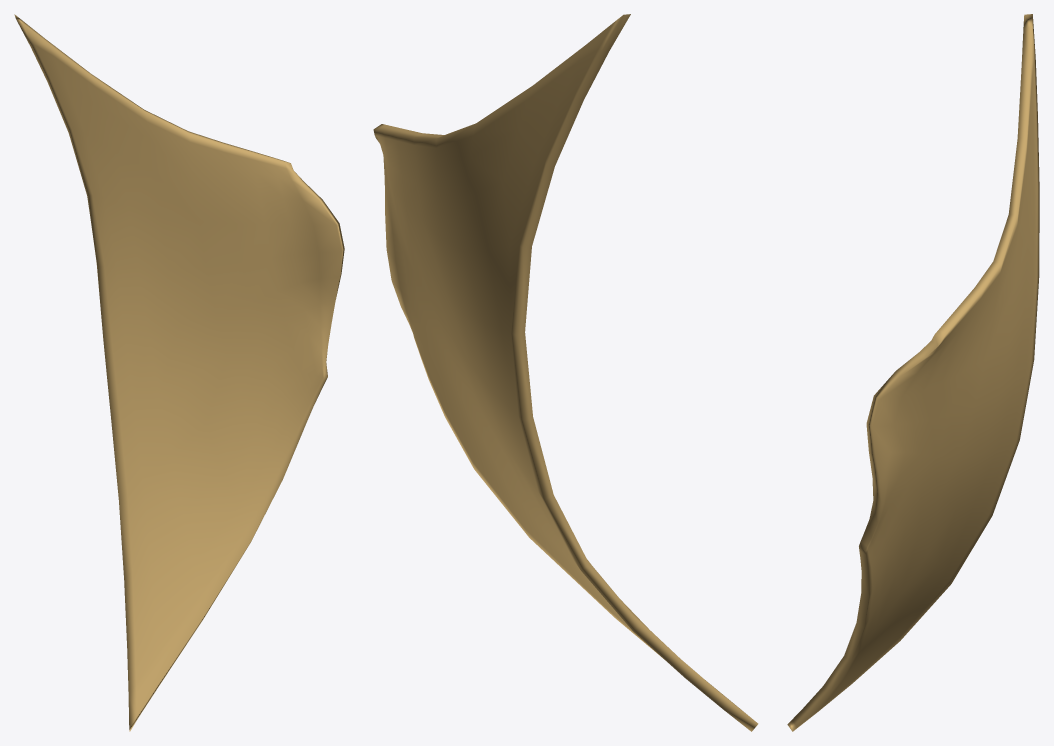
The picture shows the model from 3 angles, left to right: view 1: azimuth 30°, elevation 25°; view 2: azimuth 150°, elevation 25°; view 3: azimuth 270°, elevation 25°; orthographic projection. The views are drawn at different scales.
Visible parts, largest first — view 1: 右侧髋臼横韧带; view 2: 右侧髋臼横韧带; view 3: 右侧髋臼横韧带.
Part boxes in pixels (<box>): 右侧髋臼横韧带: <box>14,14,344,731</box>; 右侧髋臼横韧带: <box>373,14,758,731</box>; 右侧髋臼横韧带: <box>787,14,1039,731</box>.
Size of the model in its own units: 0.0266 by 0.0625 by 0.02.
